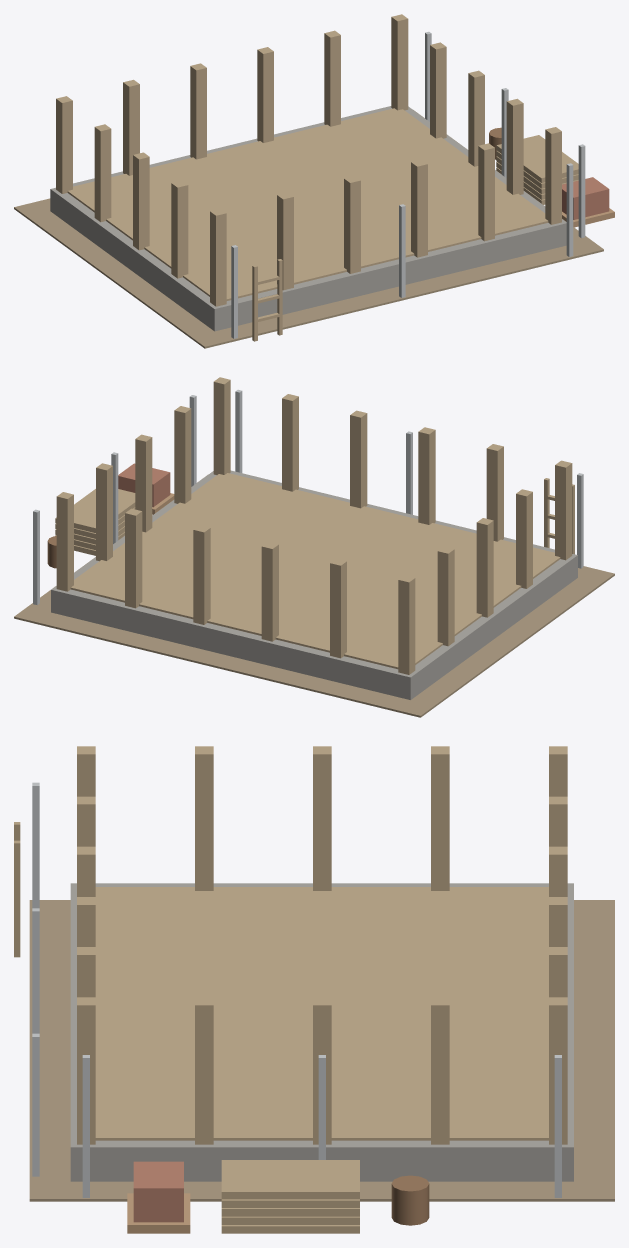
The model's file is horse_stable_site_3.glb.
3 views of the same model, one above another, from view 1: azimuth 30°, elevation 25°; view 2: azimuth 150°, elevation 25°; view 3: azimuth 270°, elevation 25° (orthographic). The views are drawn at different scales.
Parts seen in each view (by area): view 1: body; view 2: body; view 3: body.
Boxes of the visible parts, bbox=[...] form: body: bbox=[14, 14, 614, 348]; body: bbox=[14, 377, 614, 717]; body: bbox=[14, 746, 614, 1233].
Bounding box in the file's own units: 2.49 × 0.6192 × 1.91.
